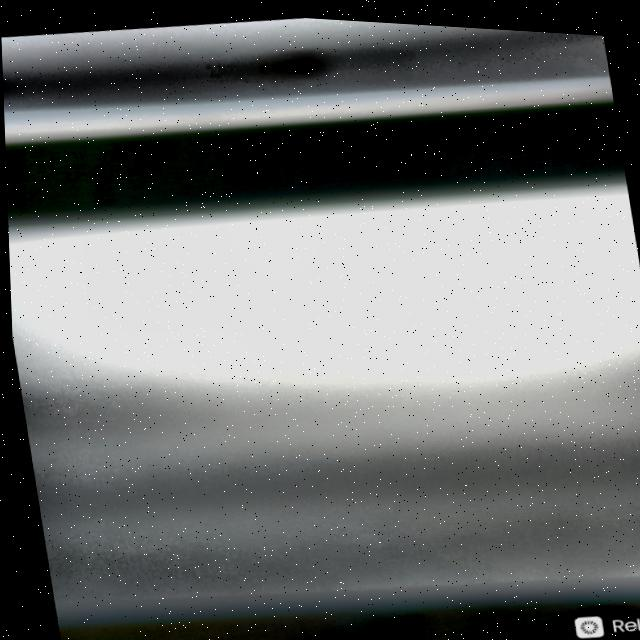Empty: (8, 215, 640, 561)
